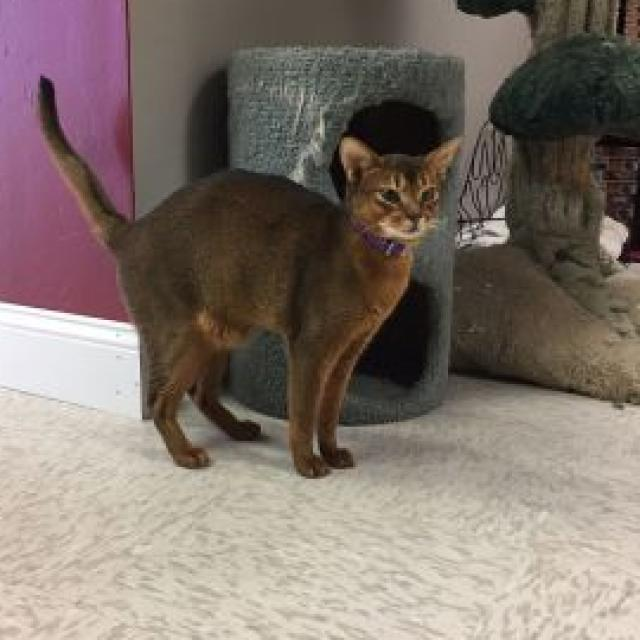Abyssinian: (31, 64, 469, 490)
